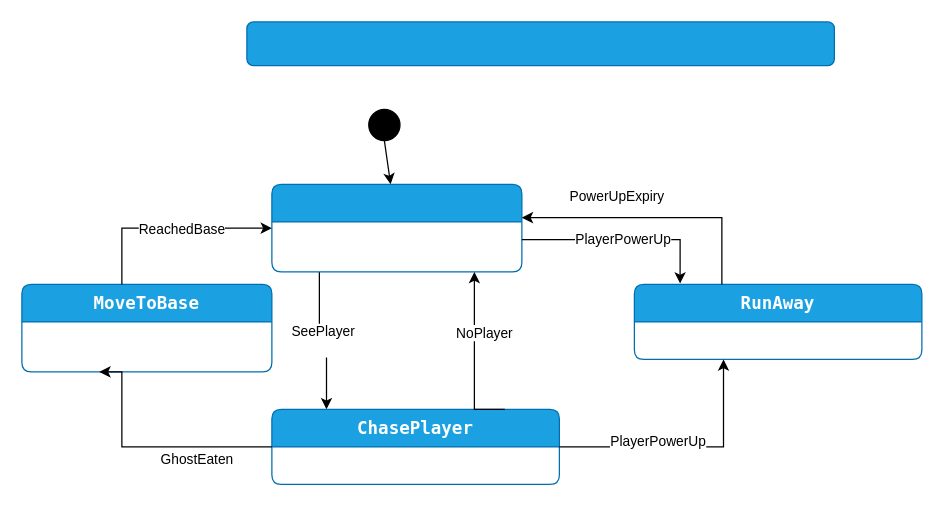
This 944x519 diagram has some shape labels left out. Here are the shapes that lost their labels. From the top down, the box of each, then its label:
(246, 21, 834, 66): $STATEMACHINE : GhostNPC
(271, 183, 522, 272): WanderMaze
